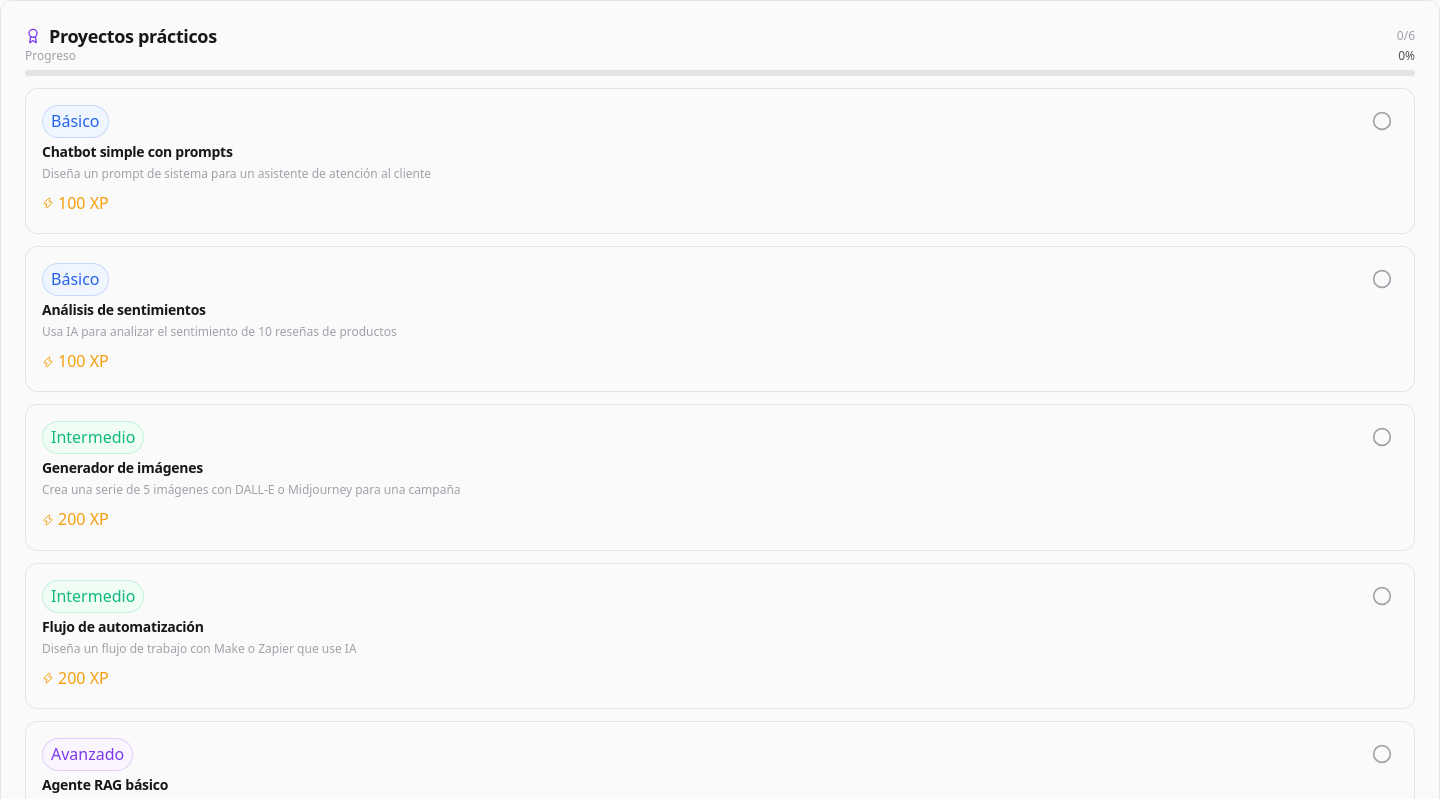
Test: ProjectList › completar un proyecto suma XP y desbloquea la insignia
Click the 1st button named "Marcar como completado". click: click(1382, 120)
box: [1366, 104, 1398, 136]
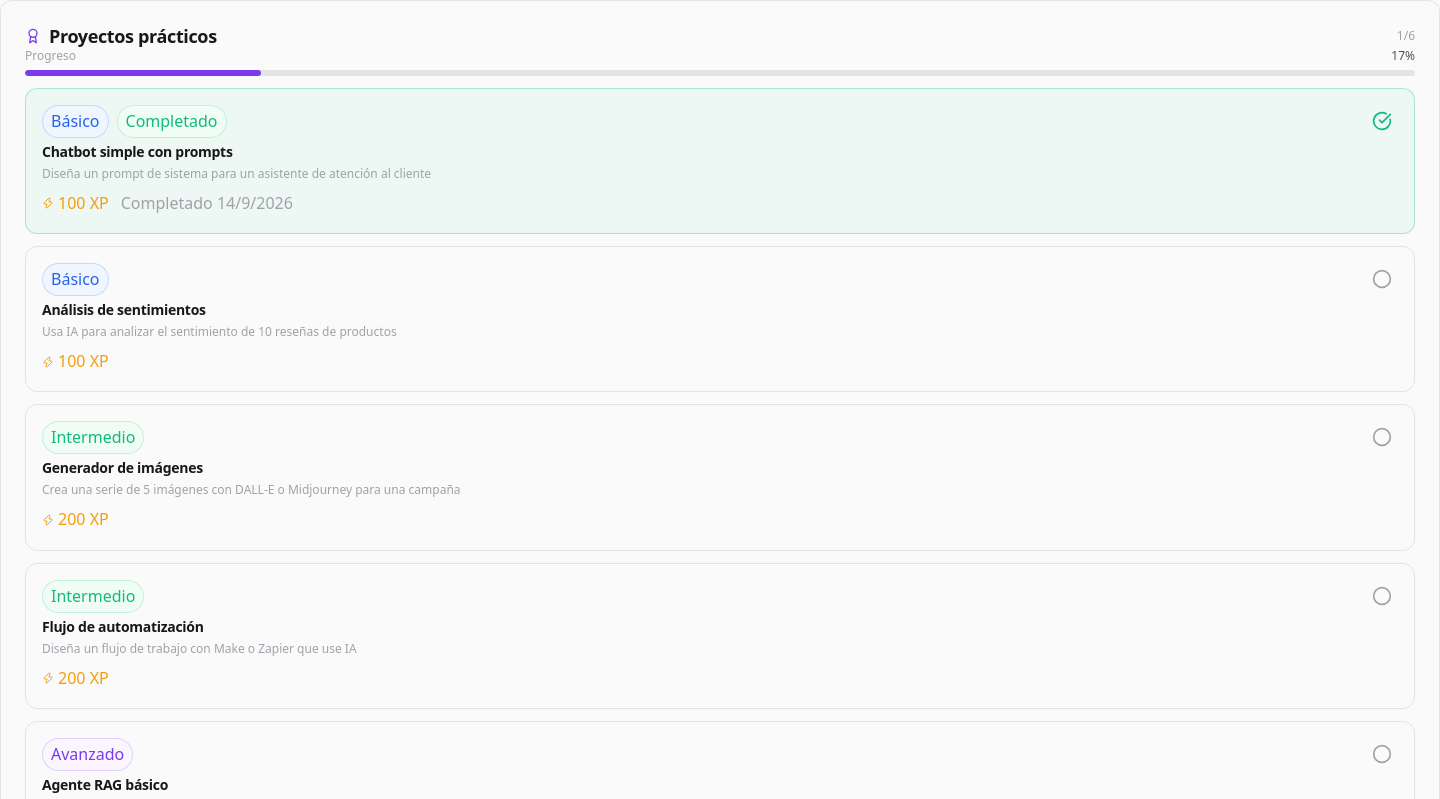
Result: the text "1/6" is shown at [1397, 28, 1415, 44]
Result: the text "17%" is shown at [1391, 48, 1415, 64]
